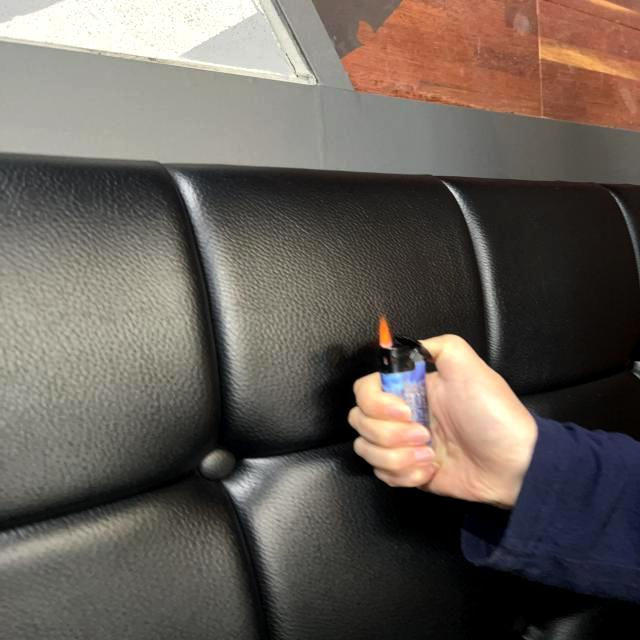fire: (378, 316, 394, 352)
